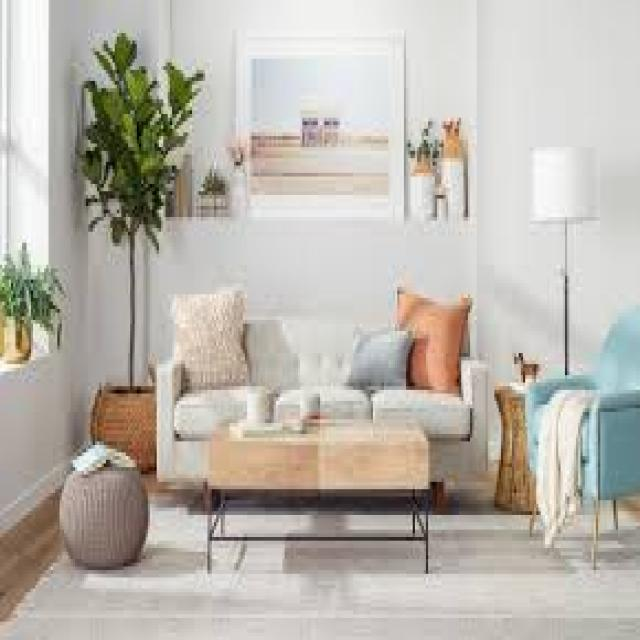Chair: (519, 298, 640, 570)
Lamp: (524, 134, 596, 374)
Sofa: (162, 273, 490, 498)
Table: (206, 398, 449, 580)
